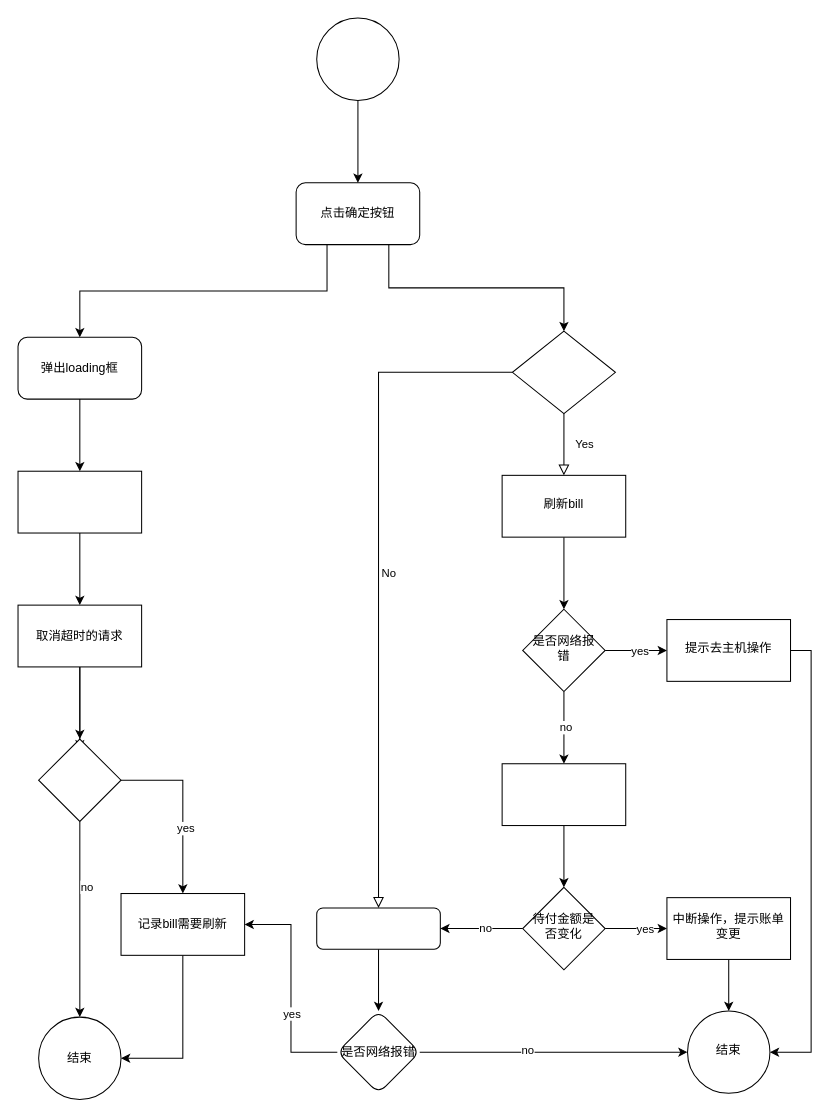
This 837x1118 diagram has some shape labels left out. The shapes that lost their labels are listed below. From the top down, each one's centre as x and y in pixels, then its label:
At (357,58): "开始".
At (563,372): "是否需要刷新bill".
At (79,501): "超时".
At (79,779): "是否member_pay网络异常".
At (563,794): "记录bill不需要刷新".
At (378,928): "发起会员支付".
